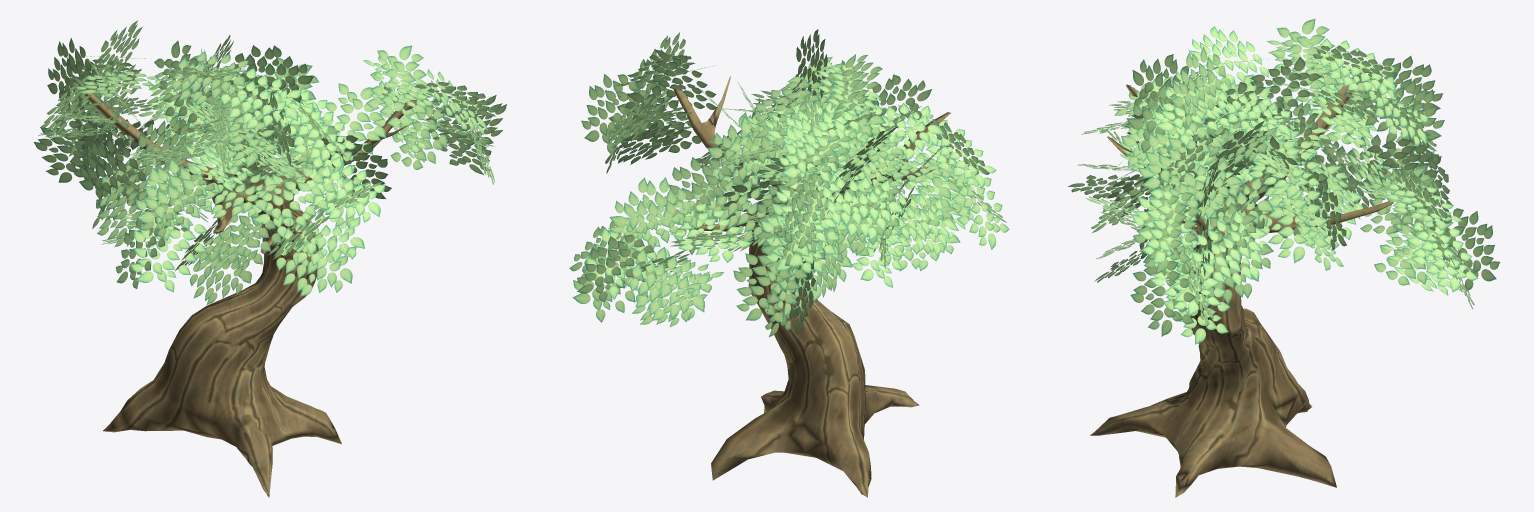
Rendered from Treeee.fbx.
The picture shows the model from 3 angles, left to right: view 1: azimuth 30°, elevation 25°; view 2: azimuth 150°, elevation 25°; view 3: azimuth 270°, elevation 25°; orthographic projection. The views are drawn at different scales.
Visible parts, largest first — view 1: matchsize1, pPlane7 (×8), pPlane2 (×5), pPlane6 (×6), pPlane12 (×6), pPlane3 (×4), pPlane13 (×3), pPlane8 (×3), pPlane11 (×4), pPlane10 (×2), pPlane9 (×3), pPlane5 (×3) (+2 smaller); view 2: matchsize1, pPlane9 (×7), pPlane3 (×8), pPlane7 (×7), pPlane6 (×5), pPlane2 (×7), pPlane12 (×4), pPlane10 (×5), pPlane4 (×5), pPlane5 (×3), pPlane8 (×5), pPlane11 (×3) (+1 smaller); view 3: matchsize1, pPlane3 (×7), pPlane7 (×7), pPlane6 (×6), pPlane13 (×7), pPlane9 (×6), pPlane2 (×5), pPlane12 (×6), pPlane5 (×5), pPlane11 (×4), pPlane10 (×5), pPlane4 (×3) (+1 smaller).
Part boxes in pixels (box(x1,y1,x2,y2)): matchsize1: box(82, 93, 416, 497); pPlane7 (×8): box(33, 37, 506, 211); pPlane2 (×5): box(138, 51, 488, 238); pPlane6 (×6): box(115, 68, 369, 288); pPlane12 (×6): box(75, 55, 434, 222); pPlane3 (×4): box(88, 20, 497, 240); pPlane13 (×3): box(154, 40, 433, 138); pPlane8 (×3): box(191, 80, 429, 272); pPlane11 (×4): box(79, 64, 447, 259); pPlane10 (×2): box(189, 228, 356, 304); pPlane9 (×3): box(40, 74, 149, 247); pPlane5 (×3): box(185, 118, 491, 191); matchsize1: box(674, 76, 950, 497); pPlane9 (×7): box(608, 81, 958, 320); pPlane3 (×8): box(609, 32, 989, 269); pPlane7 (×7): box(577, 29, 931, 335); pPlane6 (×5): box(569, 103, 1009, 323); pPlane2 (×7): box(608, 59, 996, 273); pPlane12 (×4): box(670, 100, 956, 262); pPlane10 (×5): box(617, 122, 960, 326); pPlane4 (×5): box(585, 56, 854, 316); pPlane5 (×3): box(572, 197, 910, 322); pPlane8 (×5): box(625, 107, 969, 297); pPlane11 (×3): box(624, 85, 978, 229); matchsize1: box(1090, 82, 1393, 497); pPlane3 (×7): box(1131, 26, 1447, 264); pPlane7 (×7): box(1126, 47, 1499, 326); pPlane6 (×6): box(1106, 69, 1478, 336); pPlane13 (×7): box(1208, 18, 1431, 233); pPlane9 (×6): box(1169, 81, 1395, 287); pPlane2 (×5): box(1133, 38, 1462, 274); pPlane12 (×6): box(1091, 36, 1379, 232); pPlane5 (×5): box(1121, 82, 1440, 344); pPlane11 (×4): box(1202, 66, 1455, 285); pPlane10 (×5): box(1067, 155, 1460, 304); pPlane4 (×3): box(1149, 71, 1441, 315).
Bounding box in the file's own units: 5.72 × 5.32 × 5.21.
